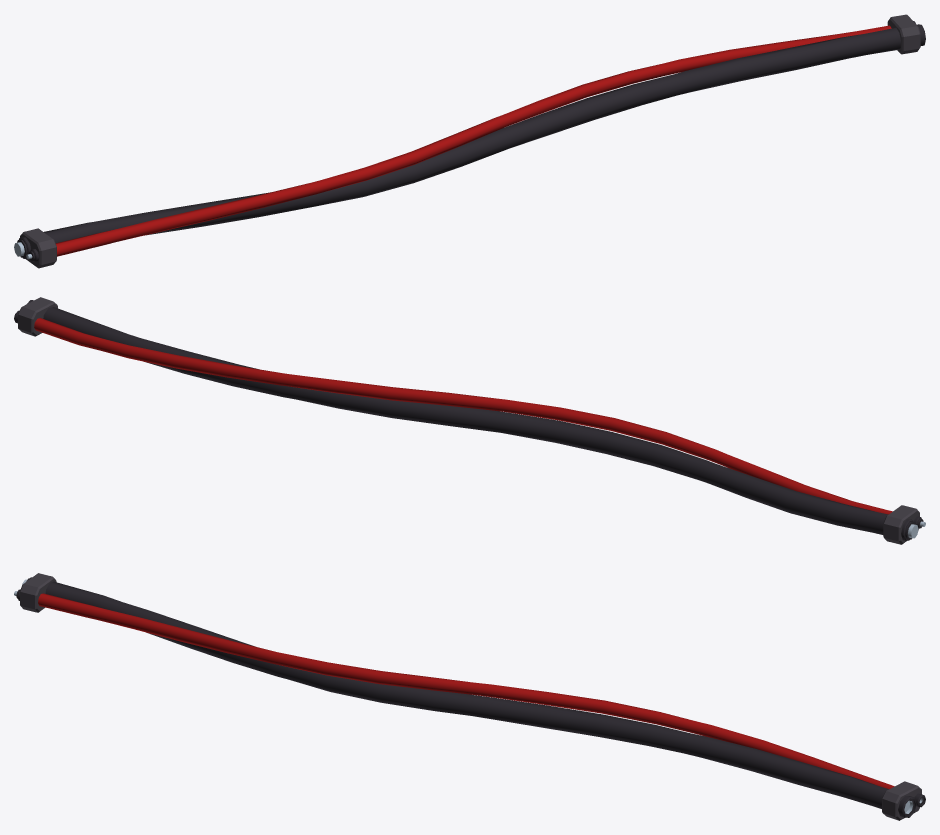
File: SM_Building_Decor_03.fbx
3 views of the same model, one above another, from view 1: azimuth 30°, elevation 25°; view 2: azimuth 150°, elevation 25°; view 3: azimuth 330°, elevation 25° (orthographic).
Visible parts, largest first — view 1: SM_Building_Decor_03; view 2: SM_Building_Decor_03; view 3: SM_Building_Decor_03.
Boxes of the visible parts, x1,y1,x2,y2 form: SM_Building_Decor_03: [14, 14, 925, 268]; SM_Building_Decor_03: [14, 297, 925, 544]; SM_Building_Decor_03: [14, 573, 925, 820].
Bounding box in the file's own units: 2.42 × 0.0848 × 0.2042.
